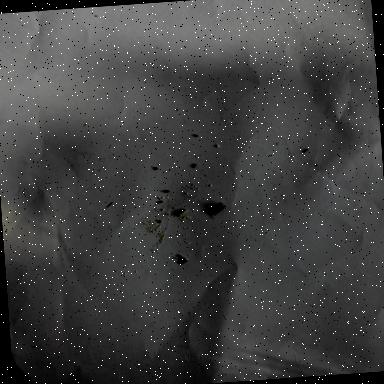pbw: (208, 201, 226, 214)
